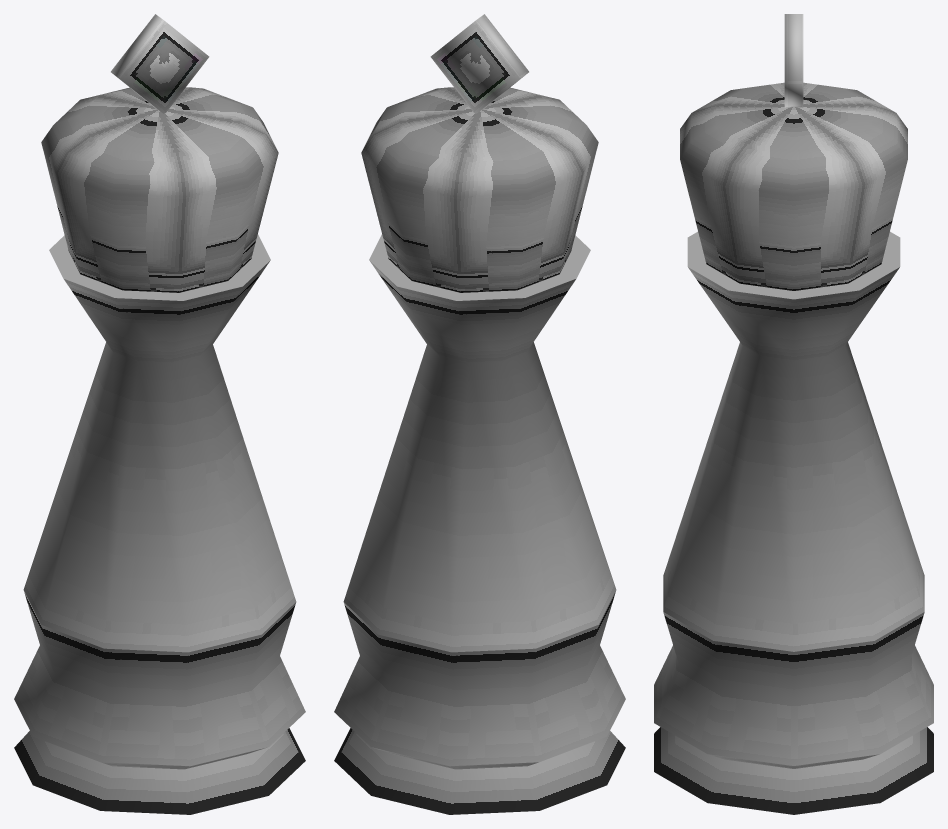
The model's file is rmk_chs_king_mtl.dae.
The picture shows the model from 3 angles, left to right: view 1: azimuth 30°, elevation 25°; view 2: azimuth 150°, elevation 25°; view 3: azimuth 270°, elevation 25°; orthographic projection.
Visible parts, largest first — view 1: rmk_chs_king_mtl; view 2: rmk_chs_king_mtl; view 3: rmk_chs_king_mtl.
Part boxes in pixels (left/top/right/bottom): rmk_chs_king_mtl: left=14, top=14, right=305, bottom=814; rmk_chs_king_mtl: left=334, top=14, right=625, bottom=814; rmk_chs_king_mtl: left=654, top=14, right=933, bottom=814.
Bounding box in the file's own units: 25.6 × 70.93 × 24.35.
Materials: 1 (1 with a texture image).
